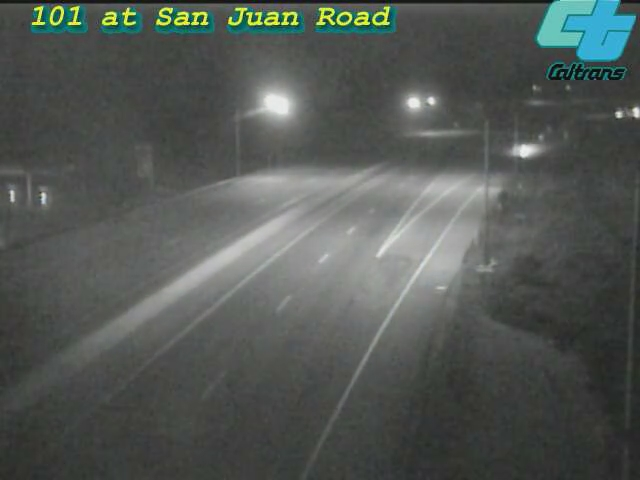vehicle: (504, 124, 554, 174), (605, 88, 640, 138)
